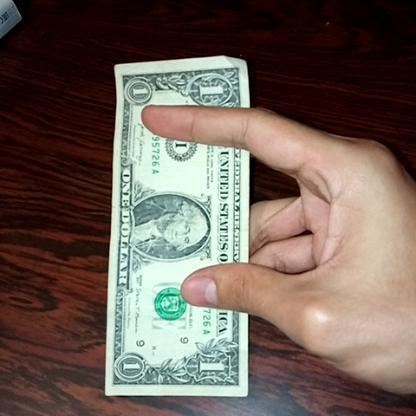one-front: (110, 54, 254, 404)
